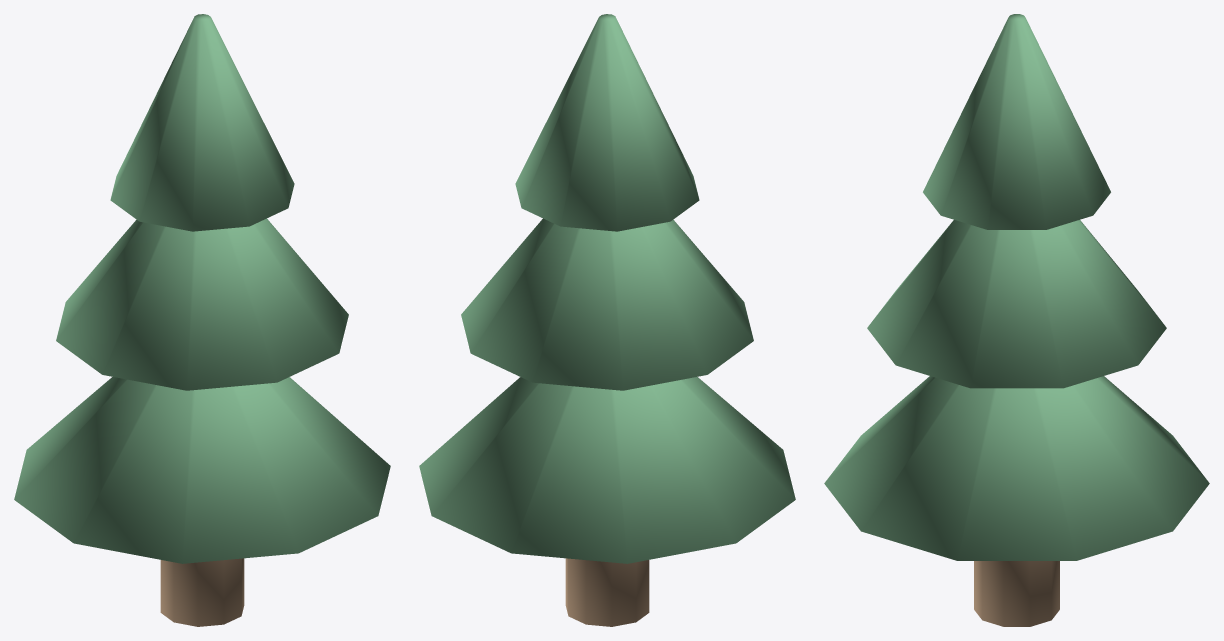
File: cozy_tree_pine_A.glb
The picture shows the model from 3 angles, left to right: view 1: azimuth 30°, elevation 25°; view 2: azimuth 150°, elevation 25°; view 3: azimuth 270°, elevation 25°; orthographic projection.
Visible parts, largest first — view 1: Tier0, Tier1, Tier2, Trunk; view 2: Tier0, Tier1, Tier2, Trunk; view 3: Tier0, Tier1, Tier2, Trunk.
Boxes of the visible parts, x1,y1,x2,y2 form: Tier0: (14,377,390,563); Tier1: (56,218,348,390); Tier2: (110,14,294,231); Trunk: (160,558,244,626); Tier0: (419,377,795,563); Tier1: (461,218,753,390); Tier2: (515,14,699,231); Trunk: (565,558,649,626); Tier0: (824,376,1209,560); Tier1: (867,220,1166,388); Tier2: (923,14,1110,229); Trunk: (974,561,1059,626).
Bounding box in the file's own units: 0.856 × 1.52 × 0.9.
